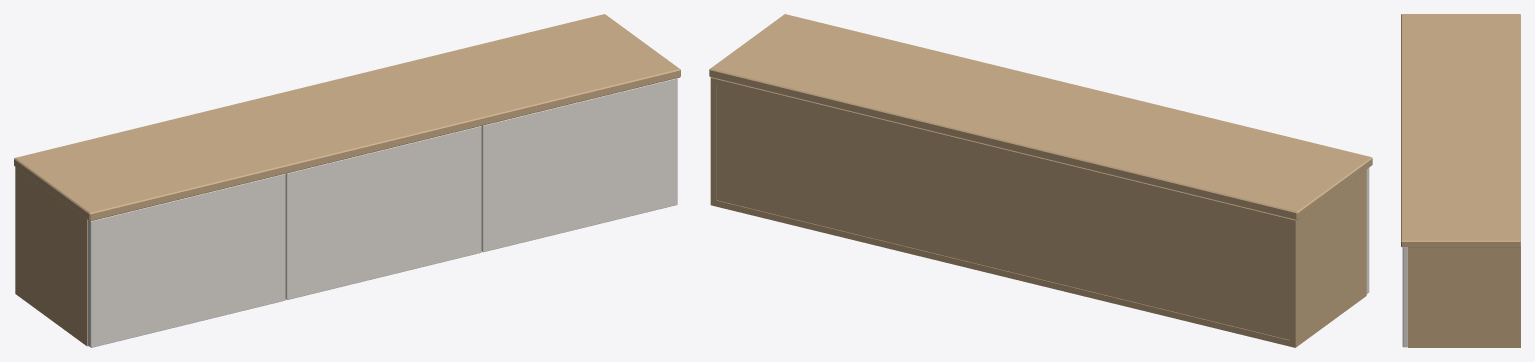
Rendered from 31_szafka_rtv_180_wiszaca.glb.
The picture shows the model from 3 angles, left to right: view 1: azimuth 30°, elevation 25°; view 2: azimuth 150°, elevation 25°; view 3: azimuth 270°, elevation 25°; orthographic projection. The views are drawn at different scales.
Visible parts, largest first — view 1: Wierzch, Front_klapa_1, Front_klapa_3, Front_klapa_2, Korpus; view 2: Korpus, Wierzch; view 3: Wierzch, Korpus, Front_klapa_3.
Boxes of the visible parts, x1,y1,x2,y2 form: Wierzch: [14, 14, 680, 221]; Front_klapa_1: [88, 173, 285, 347]; Front_klapa_3: [481, 78, 677, 252]; Front_klapa_2: [285, 126, 481, 299]; Korpus: [15, 167, 87, 346]; Korpus: [710, 77, 1366, 347]; Wierzch: [709, 14, 1372, 220]; Wierzch: [1401, 14, 1520, 247]; Korpus: [1408, 247, 1520, 347]; Front_klapa_3: [1402, 247, 1407, 347].
Bounding box in the file's own units: 1.81 × 0.4 × 0.404.
